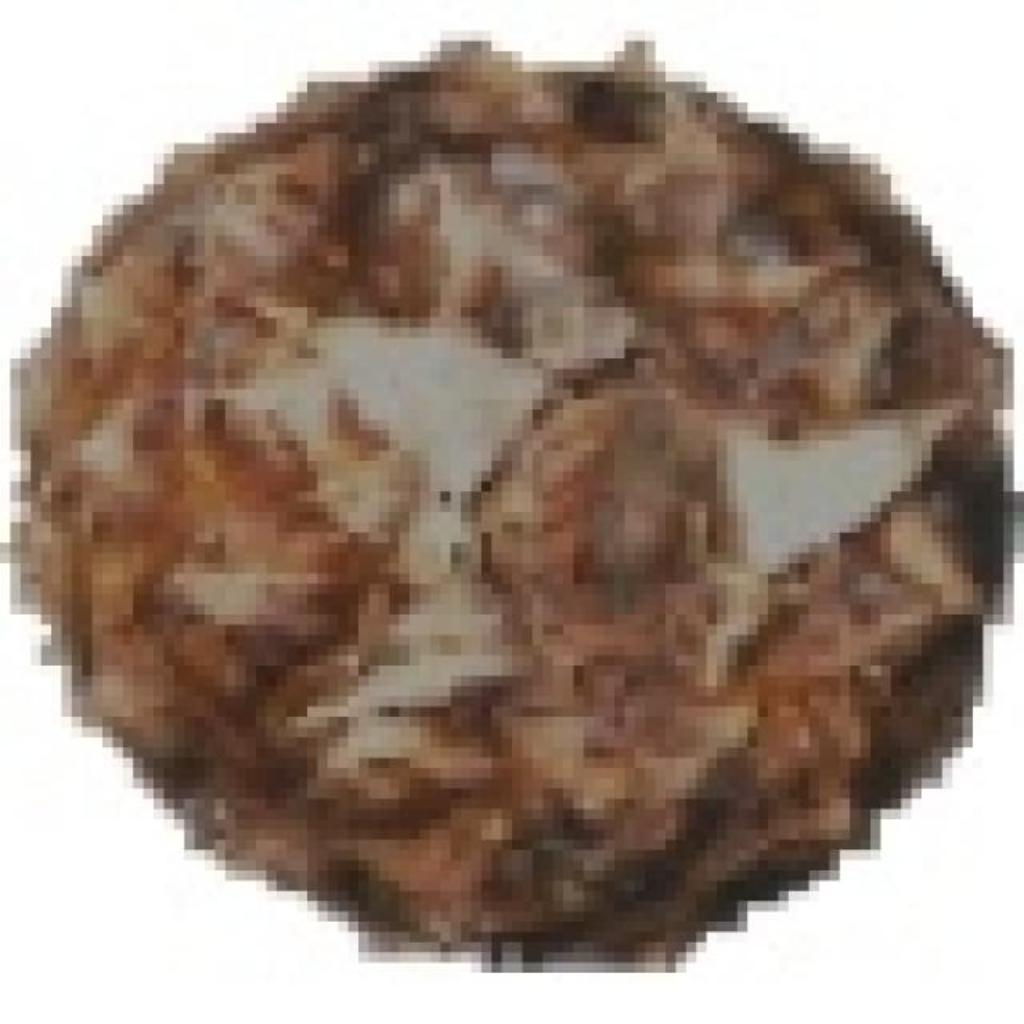pineapple: (10, 31, 983, 942)
